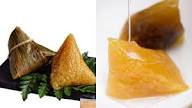zongzi: (107, 38, 187, 99), (131, 0, 183, 48), (50, 34, 95, 89), (8, 27, 54, 79), (119, 19, 128, 40)
